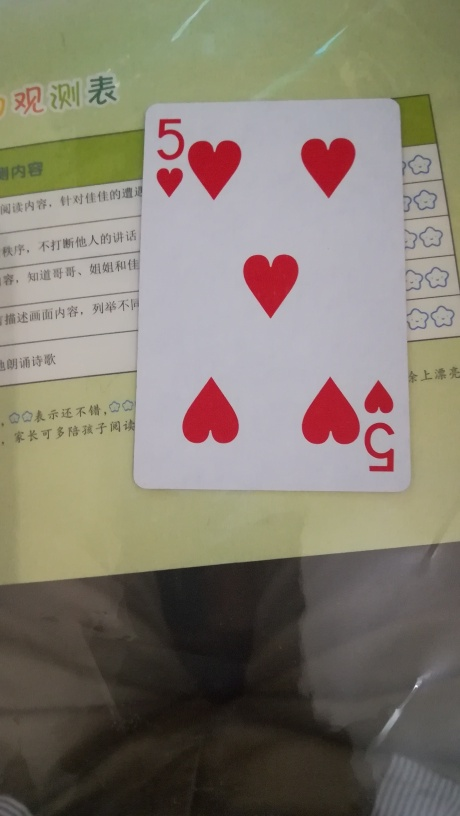hx 5: (133, 98, 410, 495)
